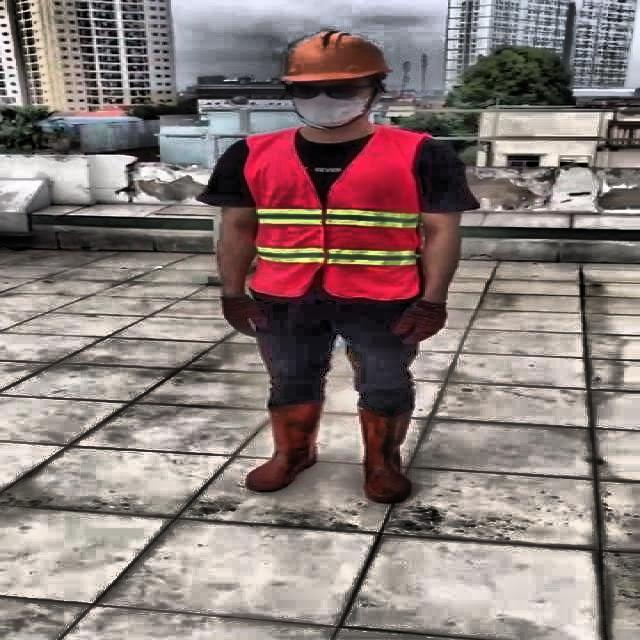safety_helmet: (274, 30, 388, 86)
safety_jacket: (246, 129, 420, 301)
